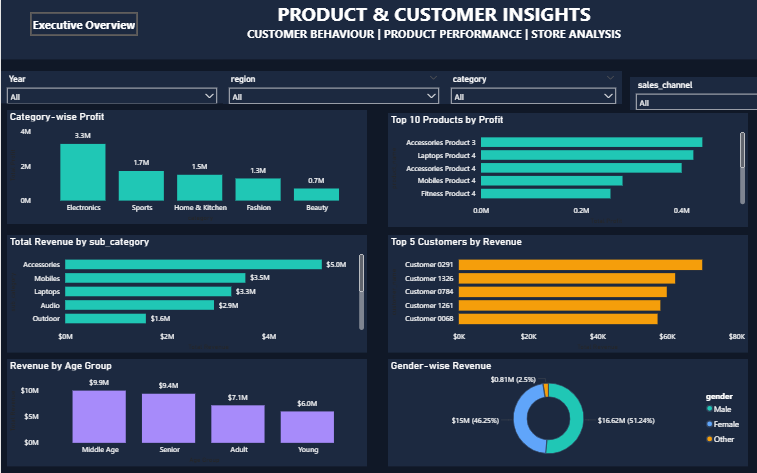

The dashboard page shown, as its layout file describes it:
{"tool":"powerbi","page":{"name":"Product & Customer Insights","canvas":[1270,1000],"ordinal":1},"visuals":[{"type":"shape","box":[10,0,1270,65],"z":0},{"type":"textbox","box":[0,0,1443.8,103.8],"z":1000},{"type":"slicer","title":"On – Year","fields":{"Values":["retail_sales_data.Year"]},"box":[0,122.5,370,53.8],"z":2000},{"type":"slicer","fields":{"Values":["retail_sales_data.region"]},"box":[370,122.5,370,55],"z":3000},{"type":"slicer","fields":{"Values":["retail_sales_data.category"]},"box":[740,122.5,295,55],"z":4000},{"type":"slicer","fields":{"Values":["retail_sales_data.sales_channel"]},"box":[1047.5,132.5,370,55],"z":5000},{"type":"clusteredBarChart","title":"Top 10 Products by Profit","fields":{"Y":["retail_sales_data.Total Profit"],"Category":["retail_sales_data.product_name"]},"box":[645,193.8,600,190],"z":6000},{"type":"clusteredColumnChart","title":"Category-wise Profit","fields":{"Category":["retail_sales_data.category"],"Y":["retail_sales_data.Total Profit"]},"box":[10,187.5,600,190],"z":7000},{"type":"clusteredBarChart","fields":{"Category":["retail_sales_data.sub_category"],"Y":["retail_sales_data.Total Revenue"]},"box":[10,396.2,600,196.2],"z":8000},{"type":"clusteredBarChart","title":"Top 5 Customers by Revenue","fields":{"Category":["retail_sales_data.customer_name"],"Y":["retail_sales_data.Total Revenue"]},"box":[645,396.2,600,196.2],"z":9000},{"type":"donutChart","title":"Gender-wise Revenue","fields":{"Category":["retail_sales_data.gender"],"Y":["retail_sales_data.Total Revenue"]},"box":[645,603.8,600,178.8],"z":10000},{"type":"clusteredColumnChart","title":"Revenue by Age Group","fields":{"Category":["retail_sales_data.Age Group"],"Y":["retail_sales_data.Total Revenue"]},"box":[10,603.8,600,178.8],"z":11000},{"type":"actionButton","box":[47.5,25,180,40],"z":12000}]}

Visuals, with their boxes on the page's 1270x1000 design canvas (x1, y1, x2, y2). These are canvas units, not pixel positions in the 757x473 screenshot, which may show the page scaled, cropped or inside an application window:
shape: 10/0/1280/65
textbox: 0/0/1444/104
"On – Year" slicer: 0/122/370/176
slicer - retail_sales_data.region: 370/122/740/178
slicer - retail_sales_data.category: 740/122/1035/178
slicer - retail_sales_data.sales_channel: 1048/132/1418/188
"Top 10 Products by Profit" clusteredBarChart: 645/194/1245/384
"Category-wise Profit" clusteredColumnChart: 10/188/610/378
clusteredBarChart - retail_sales_data.sub_category x retail_sales_data.Total Revenue: 10/396/610/592
"Top 5 Customers by Revenue" clusteredBarChart: 645/396/1245/592
"Gender-wise Revenue" donutChart: 645/604/1245/783
"Revenue by Age Group" clusteredColumnChart: 10/604/610/783
actionButton: 48/25/228/65
